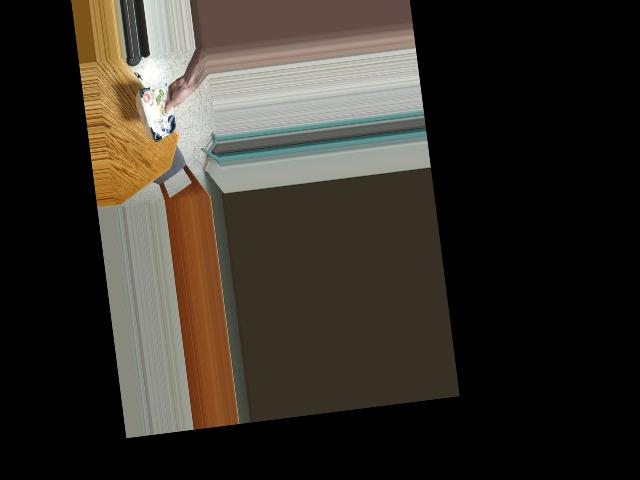cheese: (137, 84, 182, 140)
